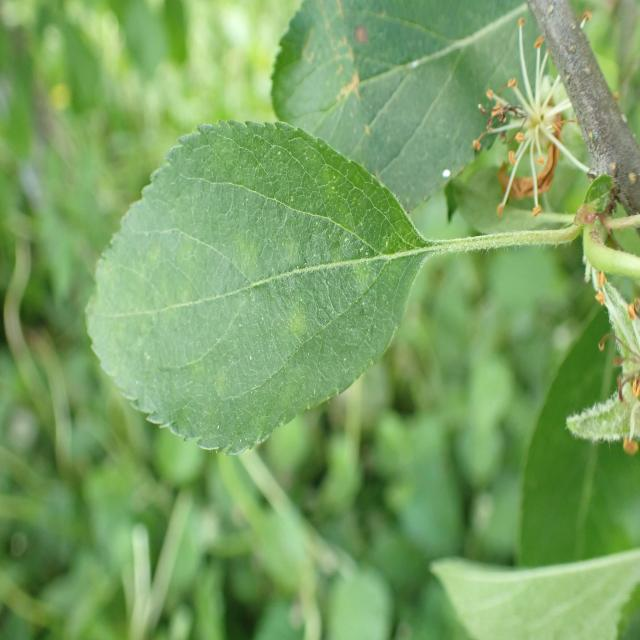scab: (115, 187, 392, 402)
